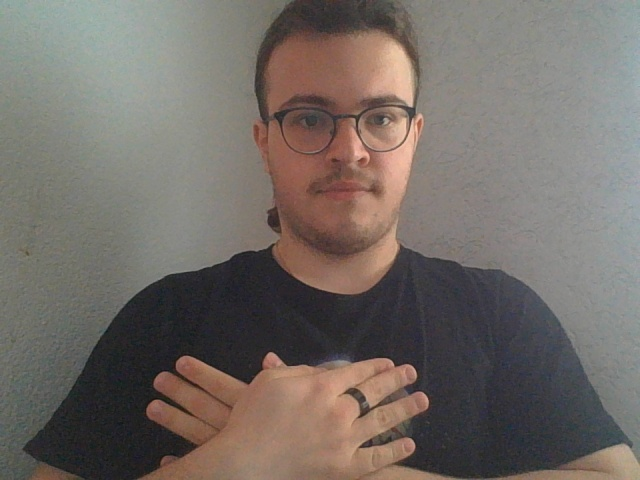Love: (144, 350, 432, 480)
